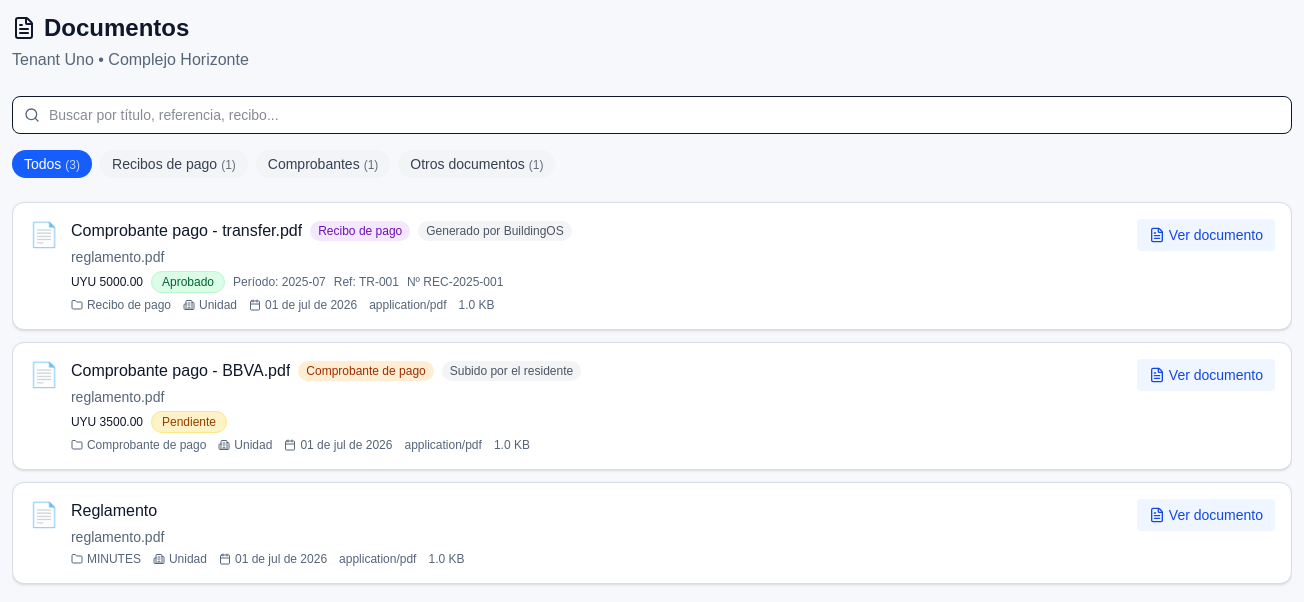
Scenario: ResidentDocumentsPage › Type filter › filters to OTHER only
Click the button "Otros documentos(1)" at (477, 164), box [398,150,555,178]
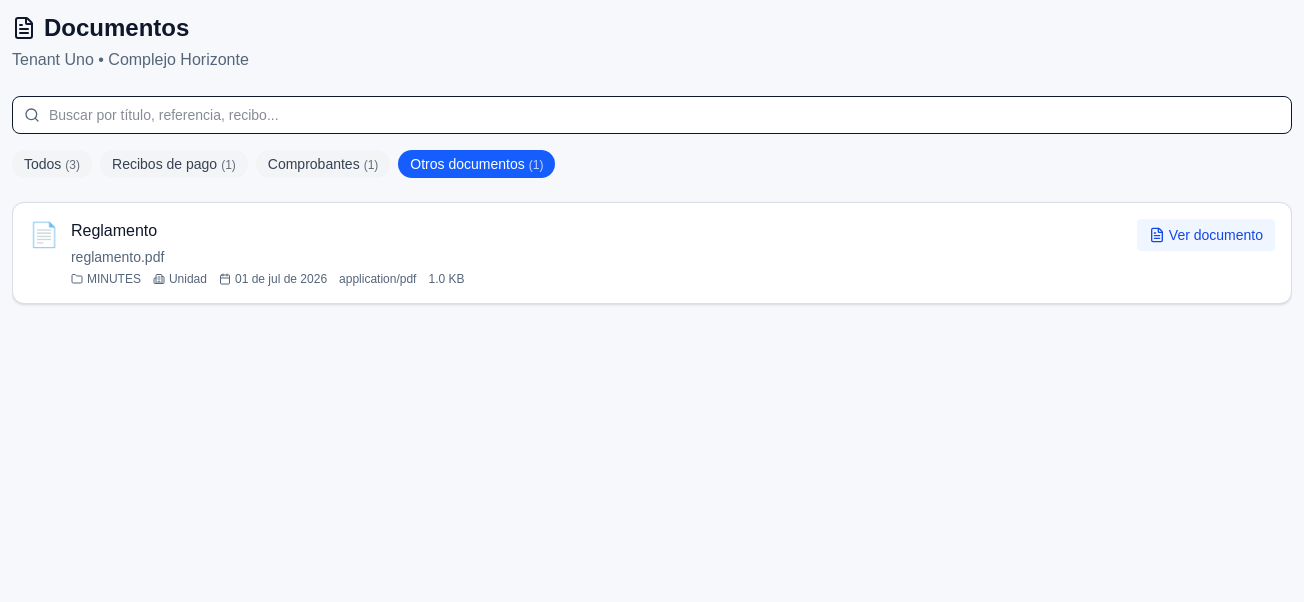
Check: the heading "Reglamento" is shown, box [71,219,157,243]
Check: the heading "Comprobante pago - transfer.pdf" is gone
Check: the heading "Comprobante pago - BBVA.pdf" is gone
